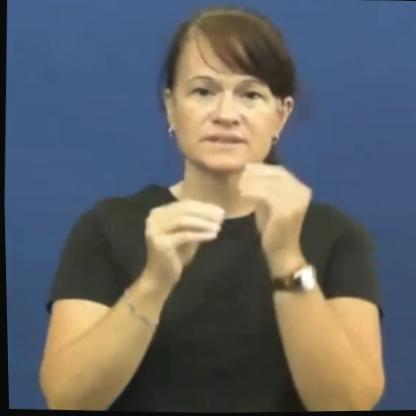Fix: (135, 150, 321, 298)
